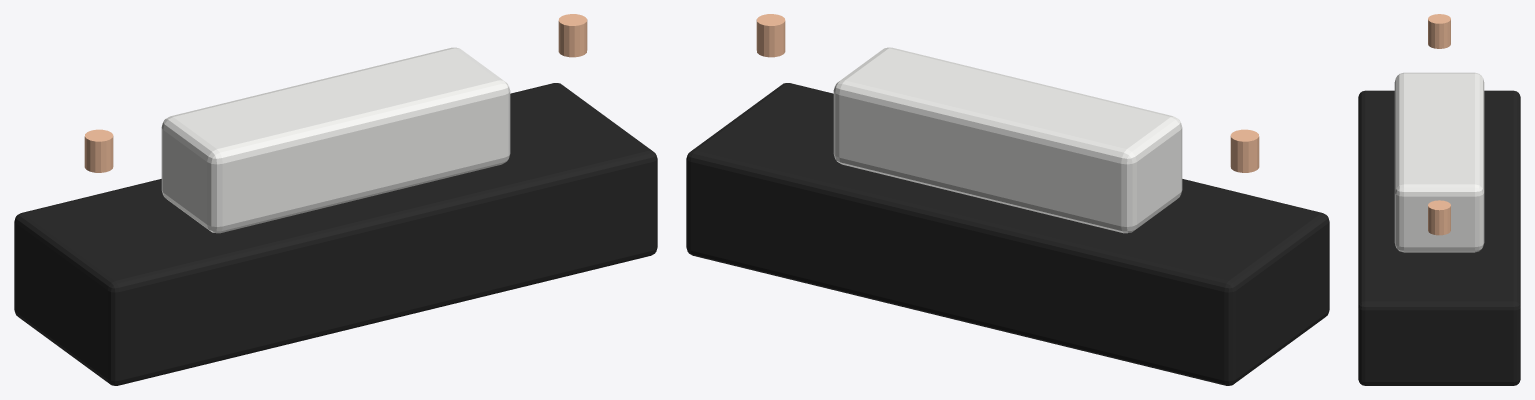
File: generic-class-t-300a.glb
3 renders of one model, left to right at view 1: azimuth 30°, elevation 25°; view 2: azimuth 150°, elevation 25°; view 3: azimuth 270°, elevation 25°, orthographic. The views are drawn at different scales.
Visible parts, largest first — view 1: base, fuse, stud-in, stud-out; view 2: base, fuse, stud-in, stud-out; view 3: base, fuse, stud-out, stud-in.
Boxes of the visible parts, x1,y1,x2,y2 form: base: [14, 83, 657, 385]; fuse: [161, 47, 510, 233]; stud-in: [84, 129, 113, 172]; stud-out: [558, 14, 587, 57]; base: [686, 83, 1329, 385]; fuse: [833, 47, 1182, 233]; stud-in: [1230, 129, 1259, 172]; stud-out: [756, 14, 785, 57]; base: [1358, 90, 1520, 385]; fuse: [1394, 72, 1484, 252]; stud-out: [1428, 200, 1450, 235]; stud-in: [1428, 14, 1450, 48].
Size of the model in its own units: 0.22 by 0.08 by 0.07.
